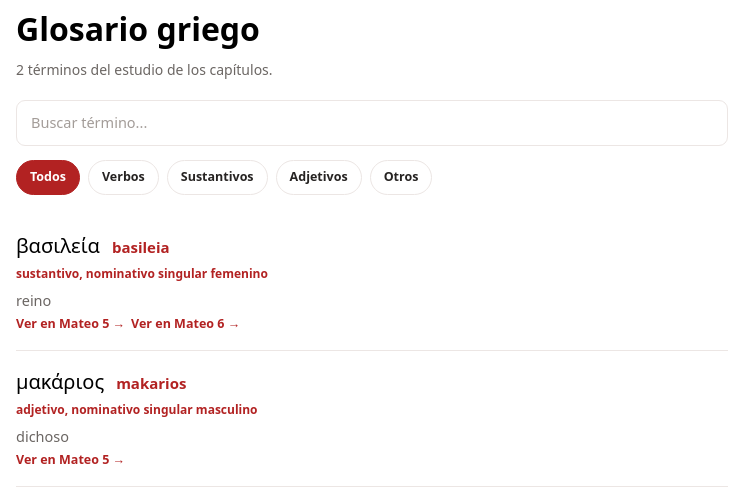
Test: GlosarioScreen › filtra por el texto de búsqueda
Type "basileia" into the field with placeholder "Buscar término..." at (372, 123), box [16,100,728,146]
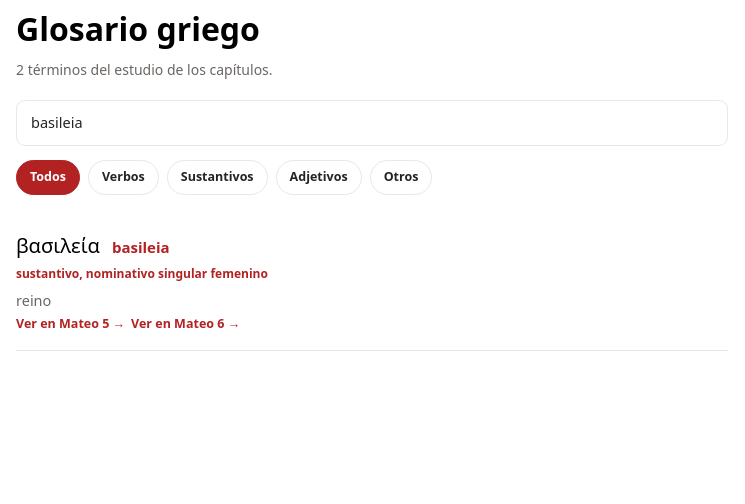
expect the text "basileia" is shown: met, box [112,236,170,258]
expect the text "makarios" is gone: met
